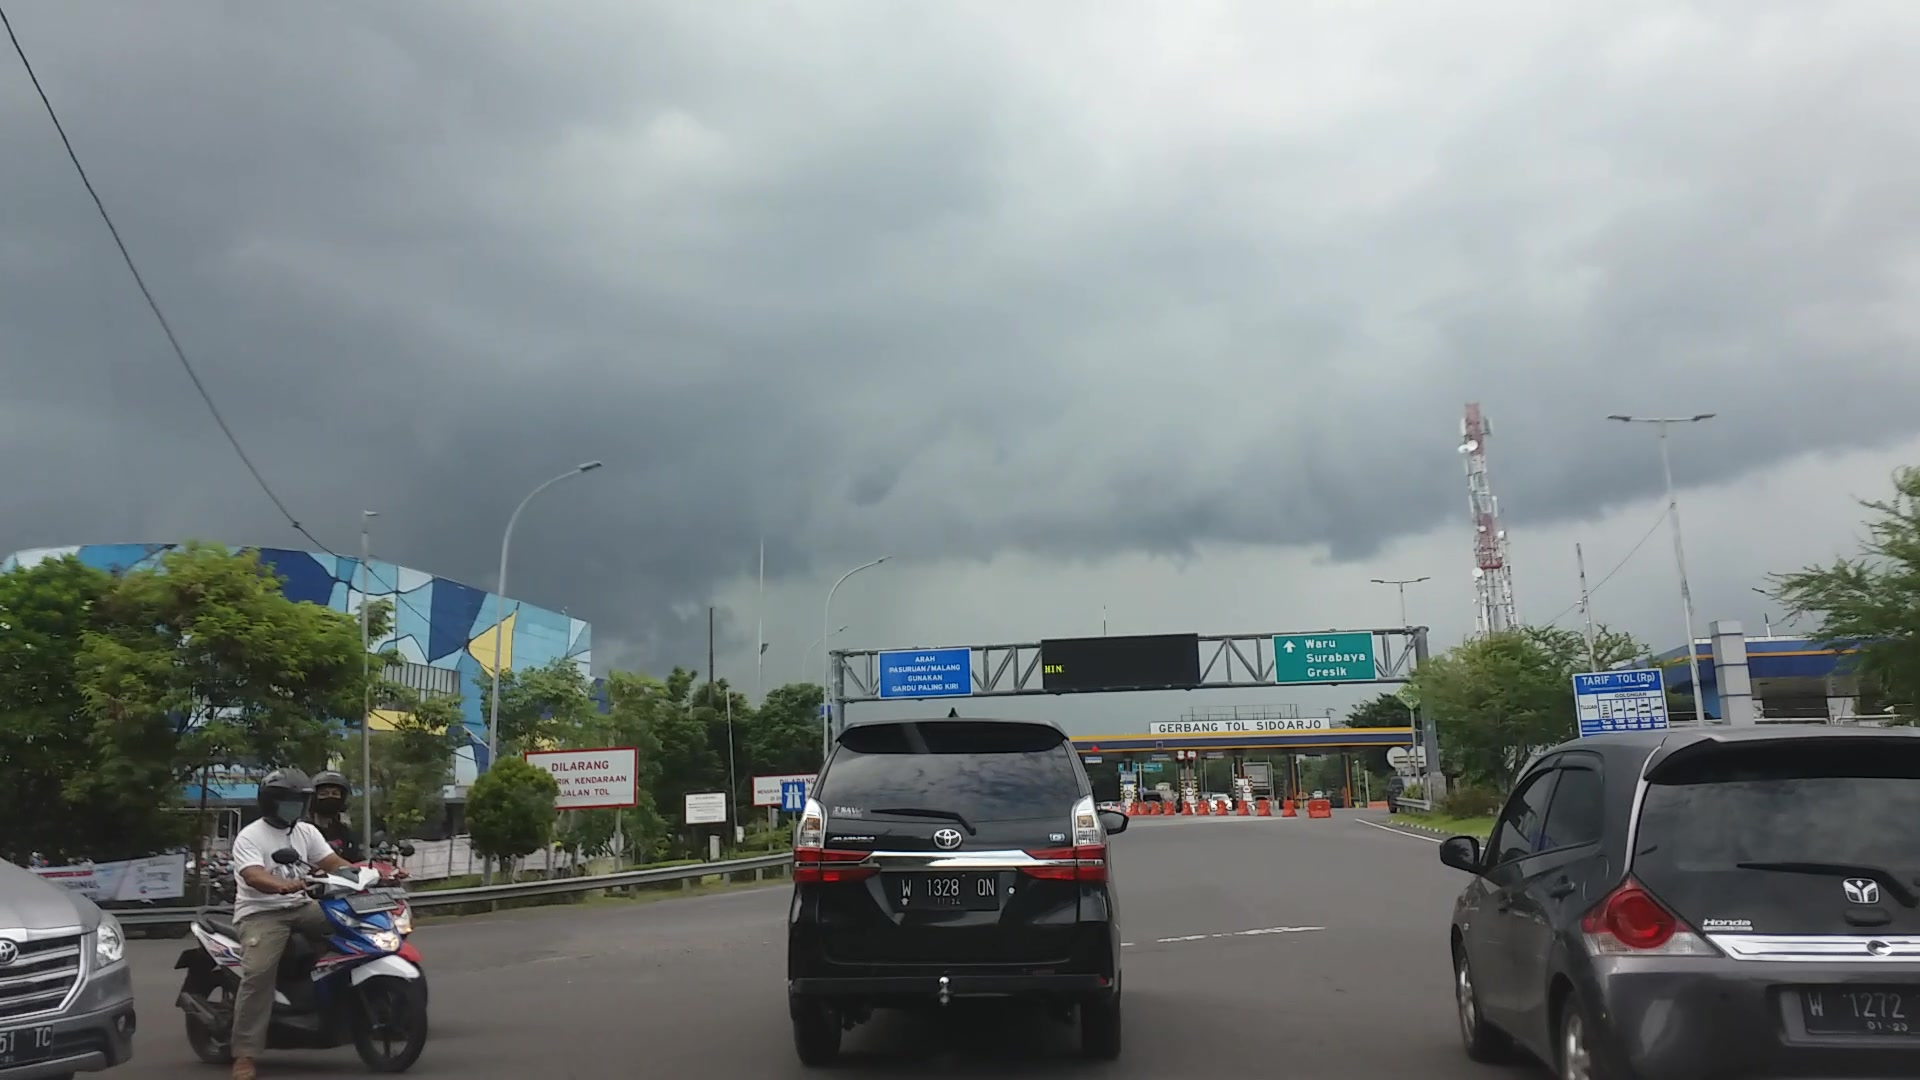plate_positive: (895, 872, 1000, 913)
